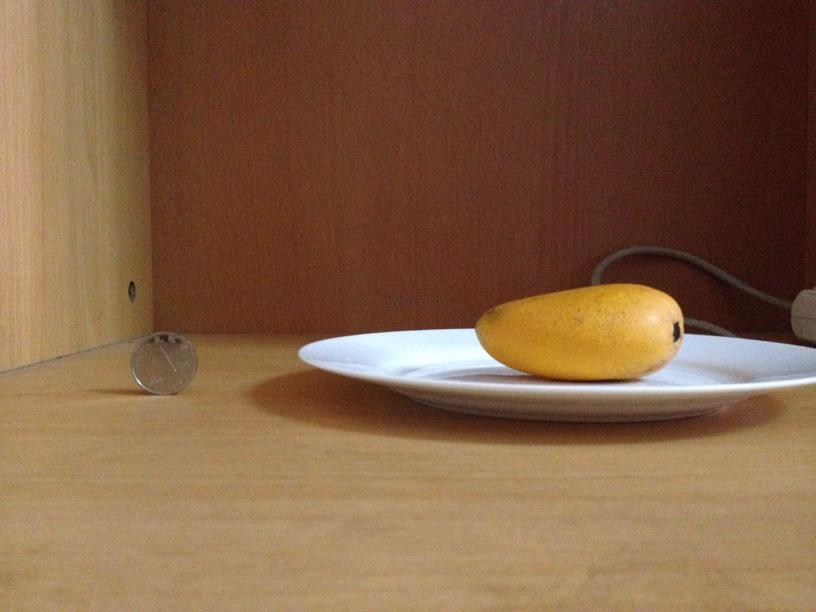coin: (126, 331, 200, 394)
mango: (476, 286, 684, 381)
